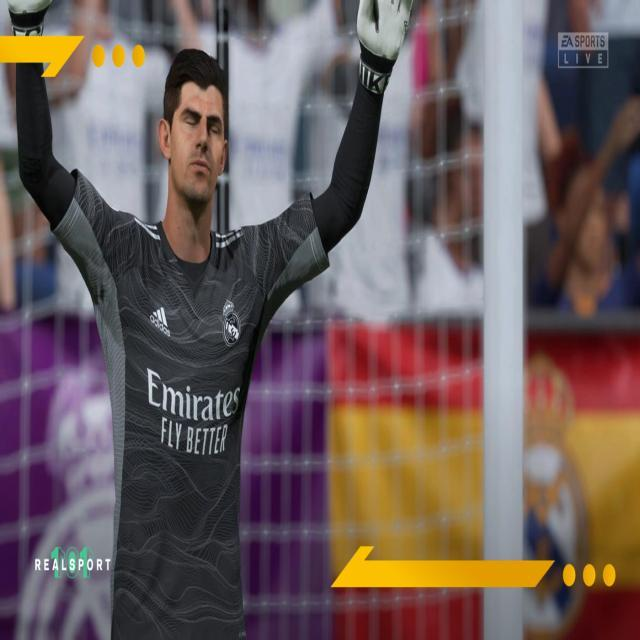Adidas: (150, 306, 170, 336)
Emirates: (147, 367, 241, 422)
